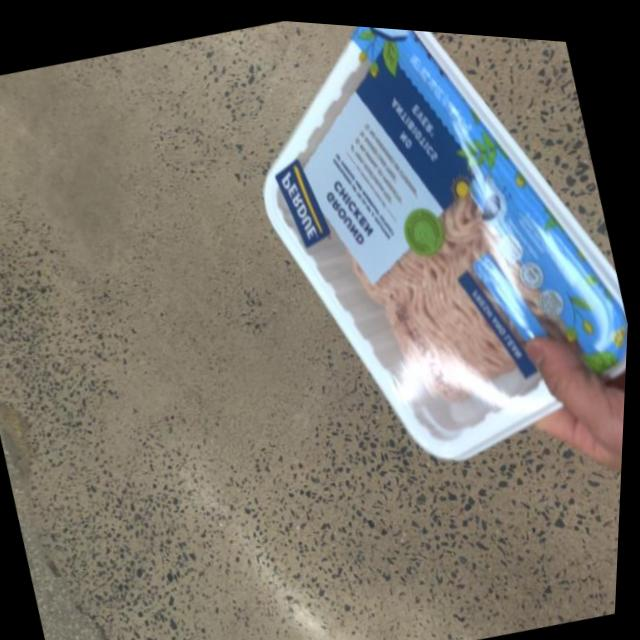Meat: (208, 13, 640, 497)
